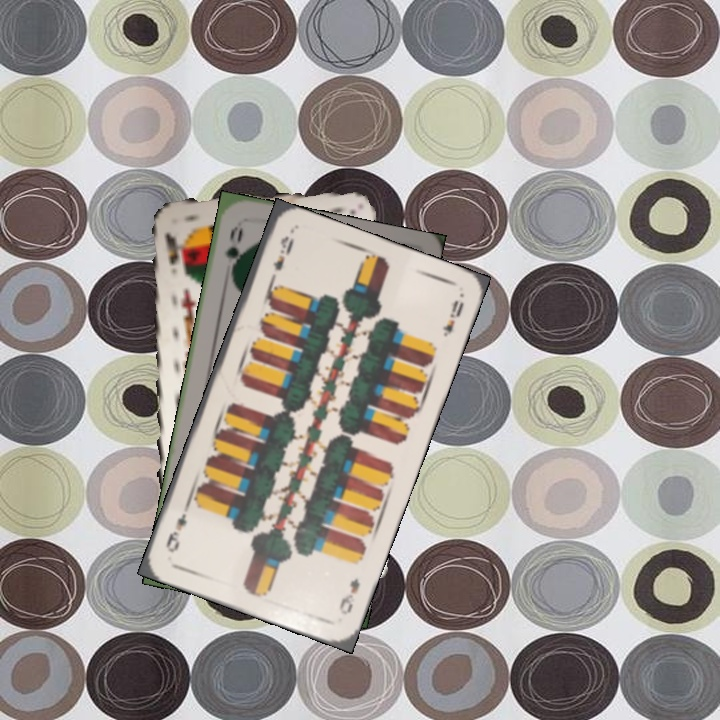E9: (266, 232, 297, 287), (335, 574, 363, 618)
GO: (220, 222, 246, 279)
SK: (161, 228, 182, 267)
